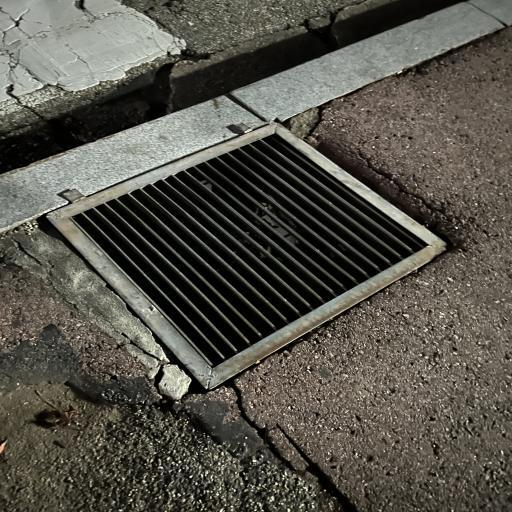drain: (45, 121, 451, 391)
